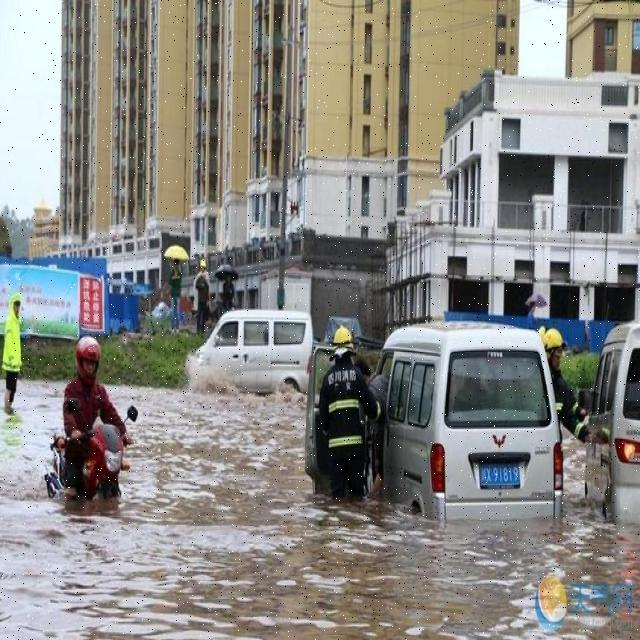rescuer: (320, 314, 378, 501), (539, 321, 592, 453), (0, 282, 30, 419)
